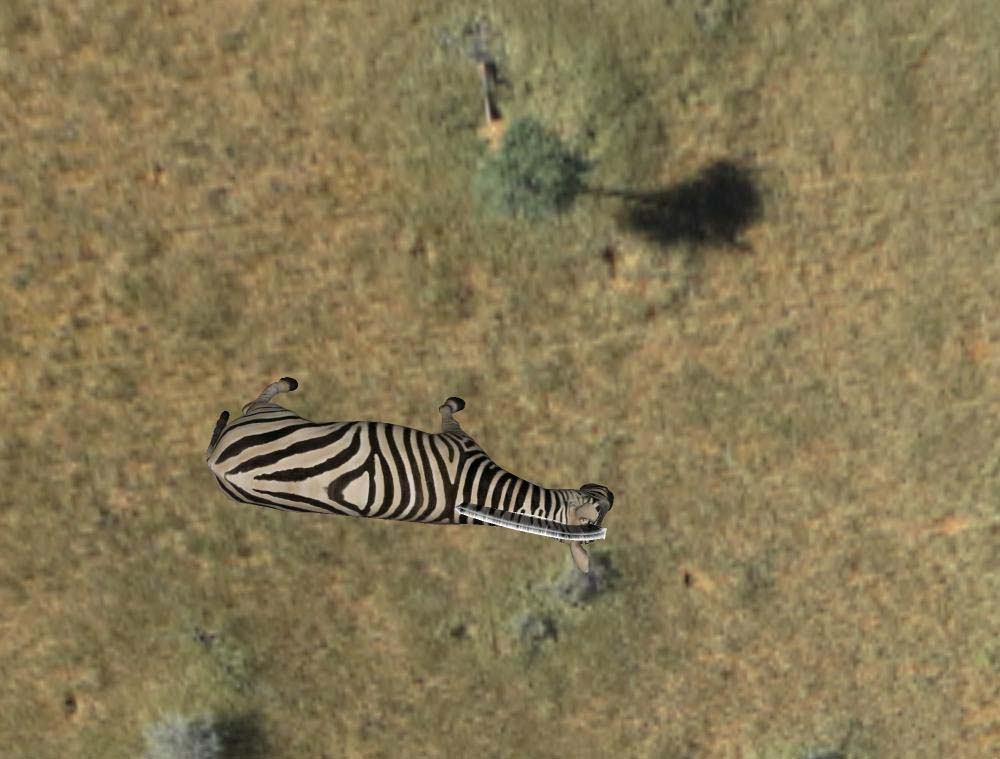zebra: (204, 372, 615, 548)
